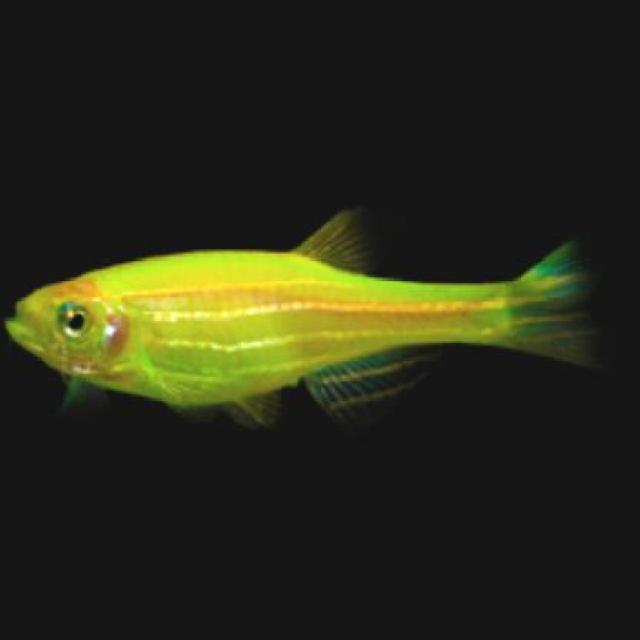ZebraFish: (9, 213, 576, 412)
